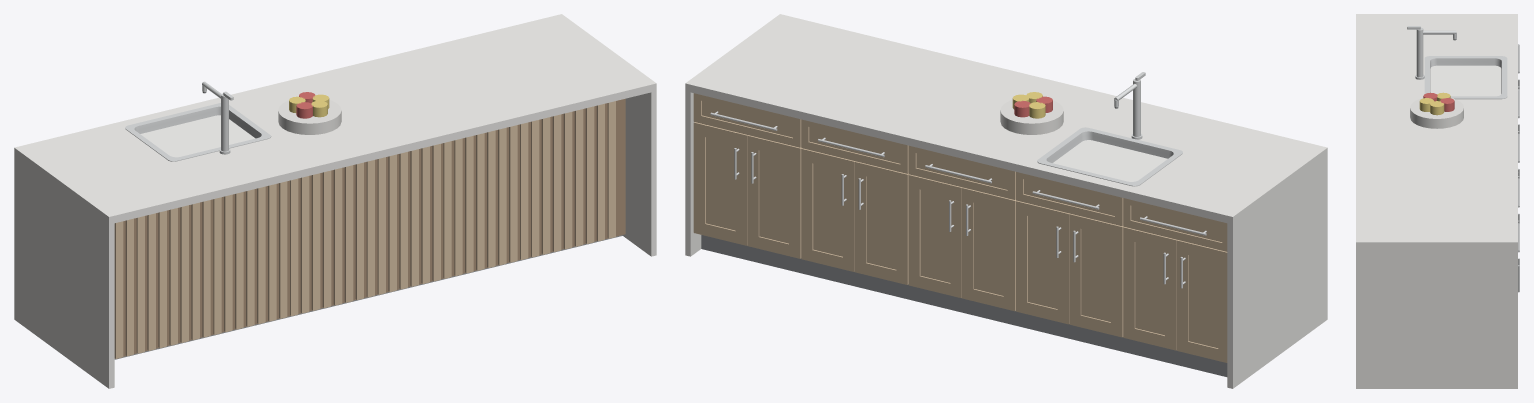
3 renders of one model, left to right at view 1: azimuth 30°, elevation 25°; view 2: azimuth 150°, elevation 25°; view 3: azimuth 270°, elevation 25°, orthographic. The views are drawn at different scales.
Visible parts, largest first — view 1: Đảo bếp Dài=3000; Rộng=900; view 2: Đảo bếp Dài=3000; Rộng=900; view 3: Đảo bếp Dài=3000; Rộng=900.
Part boxes in pixels (x1,y1,x2,y2): Đảo bếp Dài=3000; Rộng=900: [14, 14, 656, 388]; Đảo bếp Dài=3000; Rộng=900: [685, 14, 1327, 388]; Đảo bếp Dài=3000; Rộng=900: [1356, 14, 1519, 388].
Bounding box in the file's own units: 3 × 1.21 × 0.91.
